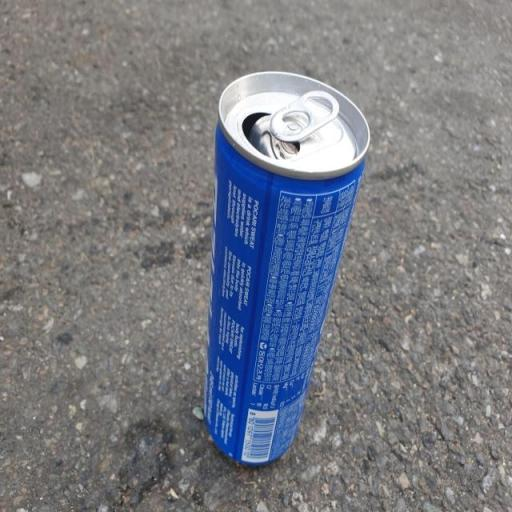metal: (178, 25, 375, 500)
